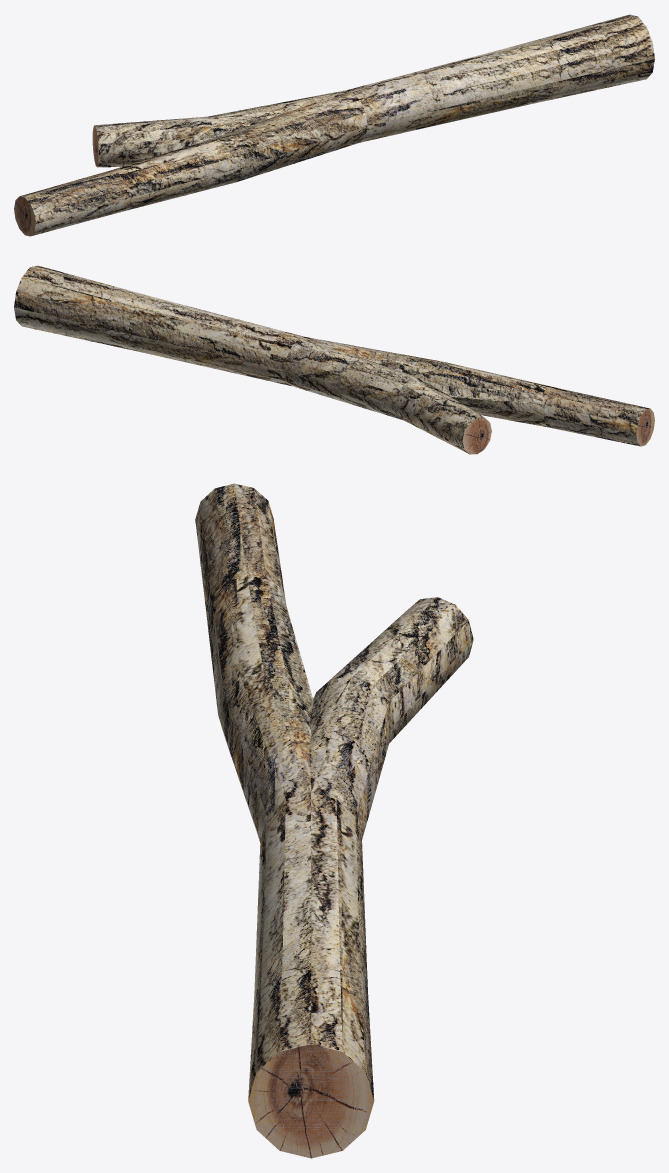
File: big_branch.dae
3 views of the same model, one above another, from view 1: azimuth 30°, elevation 25°; view 2: azimuth 150°, elevation 25°; view 3: azimuth 270°, elevation 25° (orthographic). The views are drawn at different scales.
Parts seen in each view (by area): view 1: コンポーネント_2 (×2); view 2: コンポーネント_2 (×3); view 3: コンポーネント_2 (×2).
Part boxes in pixels (<box>): コンポーネント_2 (×2): <box>14,14,654,236</box>; コンポーネント_2 (×3): <box>14,265,654,454</box>; コンポーネント_2 (×2): <box>195,483,473,1158</box>.
Size of the model in its own units: 31.8 by 6.42 by 2.91.
Materials: 3 (2 with a texture image).
